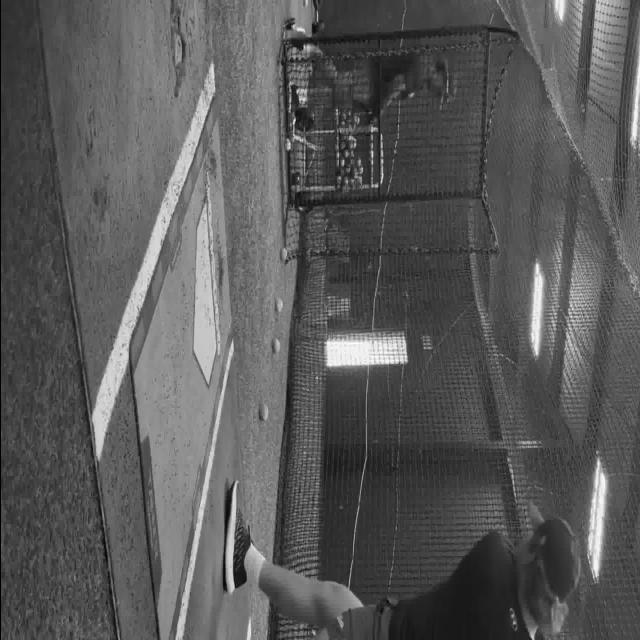base: (184, 205, 217, 394)
baseball: (258, 402, 268, 421), (272, 338, 280, 354), (274, 296, 282, 312), (280, 247, 286, 261), (284, 138, 290, 151)
shoe: (223, 479, 251, 593), (288, 84, 306, 112)
